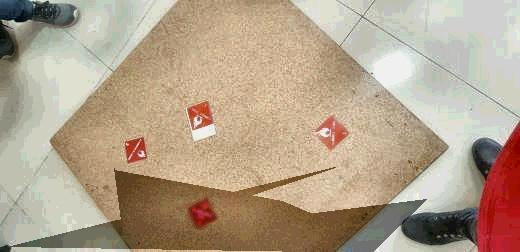flammable: (313, 115, 351, 151), (187, 197, 218, 228), (186, 100, 214, 131), (124, 137, 148, 163)
